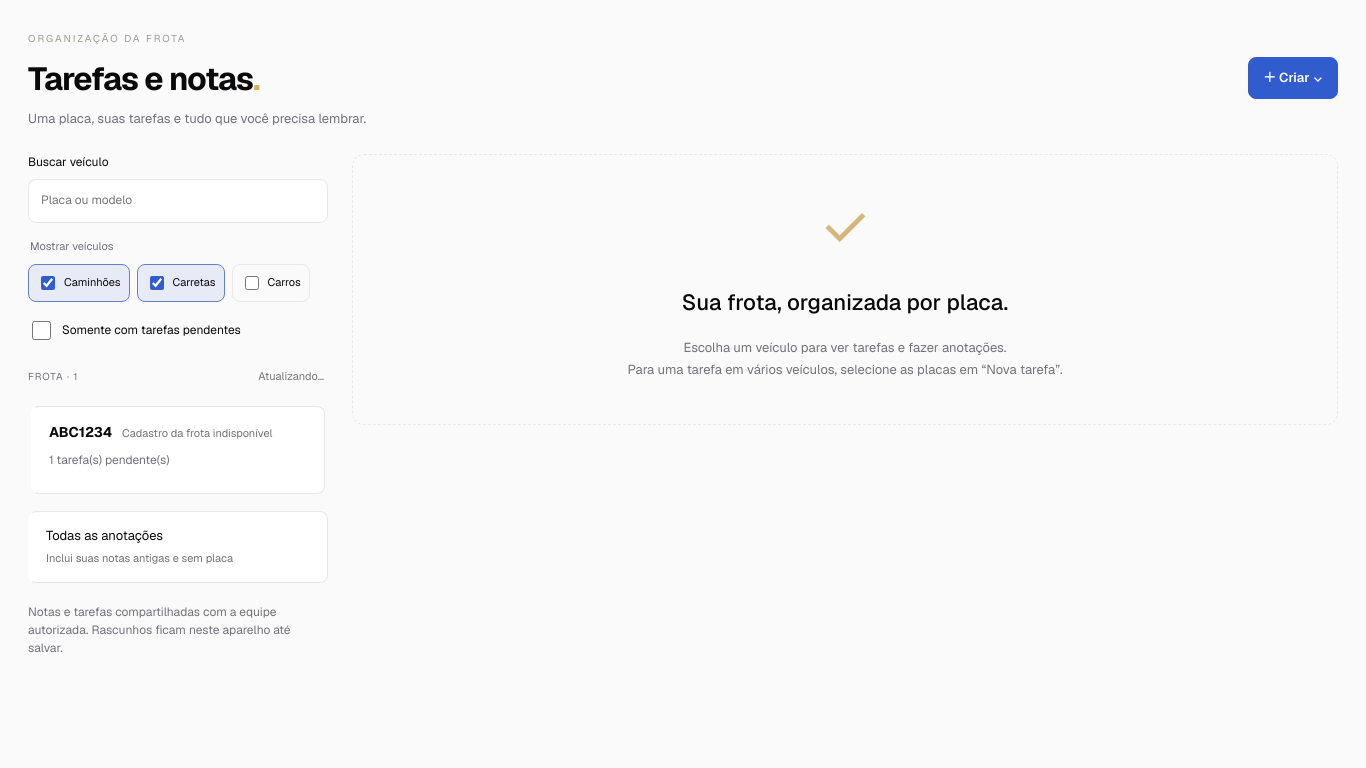
Test: keeps saved tasks usable when the ERP is unreachable and recovers on refresh
The width and height of the screenshot is (1366, 768).
# Saved tasks appear without waiting for the ERP connection timeout.
Click the button "ABC1234".
click(81, 432)  # box x1=31 y1=406 x2=325 y2=494
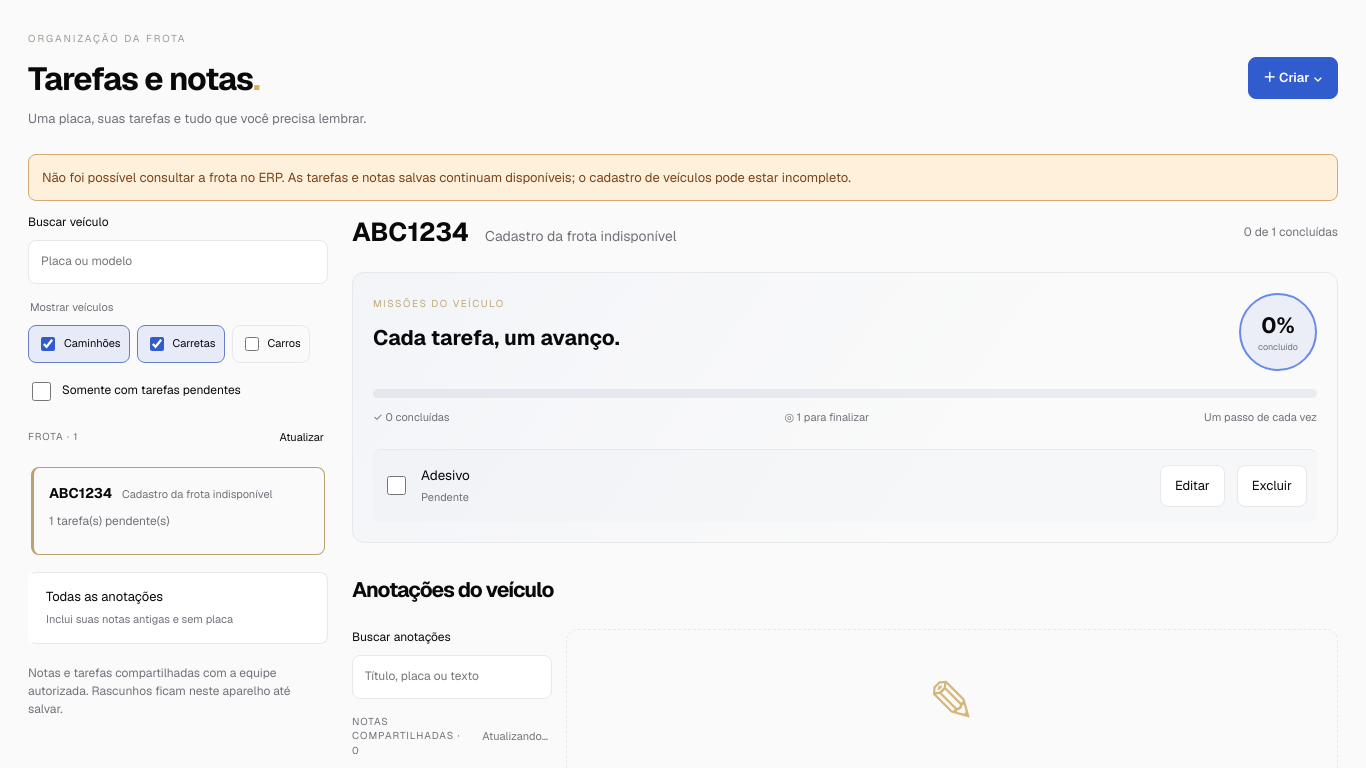
Now the button with aria-label "Editar tarefa: Adesivo" is shown, box x1=1160 y1=465 x2=1225 y2=507
Now the button with aria-label "Excluir tarefa: Adesivo" is shown, box x1=1237 y1=465 x2=1307 y2=507
Click the button "Atualizar".
click(302, 438)  # box x1=275 y1=420 x2=328 y2=456
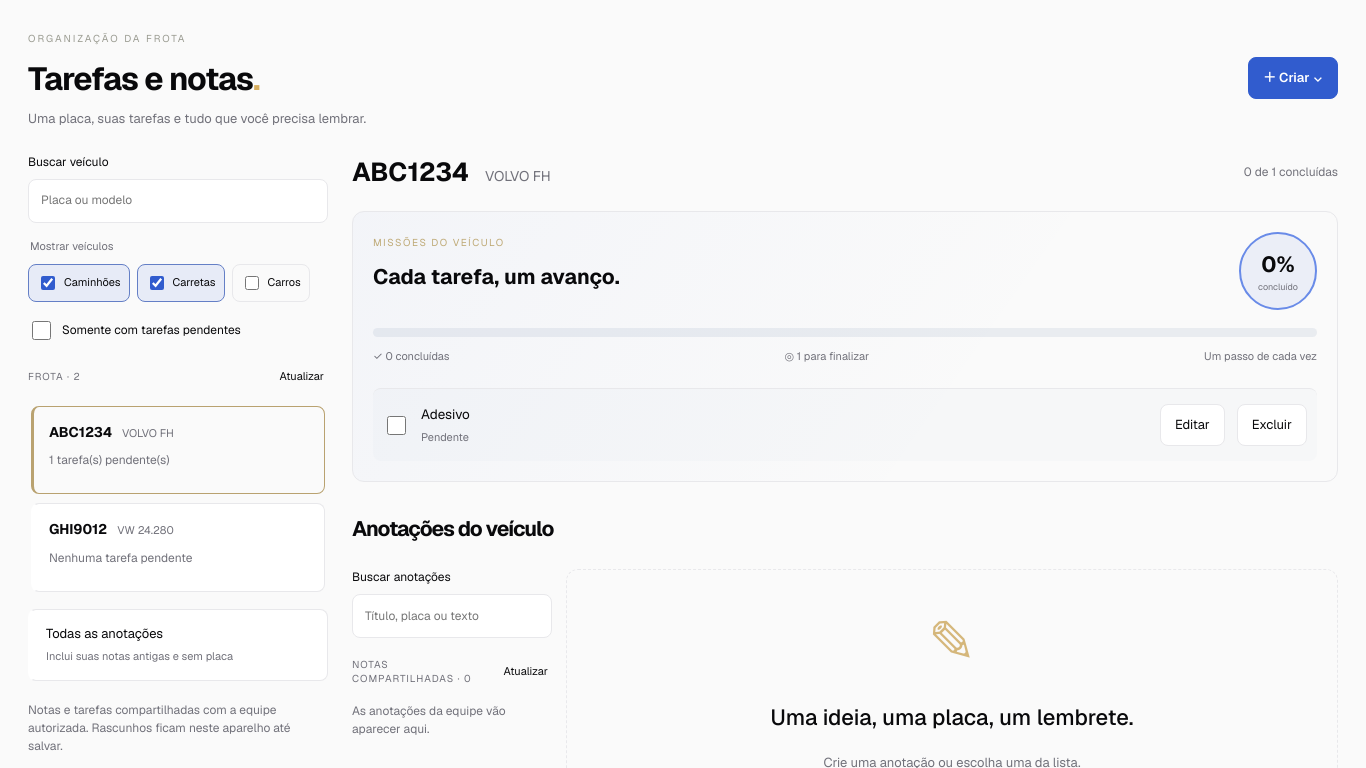
Now the message is gone
Now the button "ABC1234 VOLVO FH 1 tarefa(s) pendente(s)" is shown, box x1=31 y1=406 x2=325 y2=494
